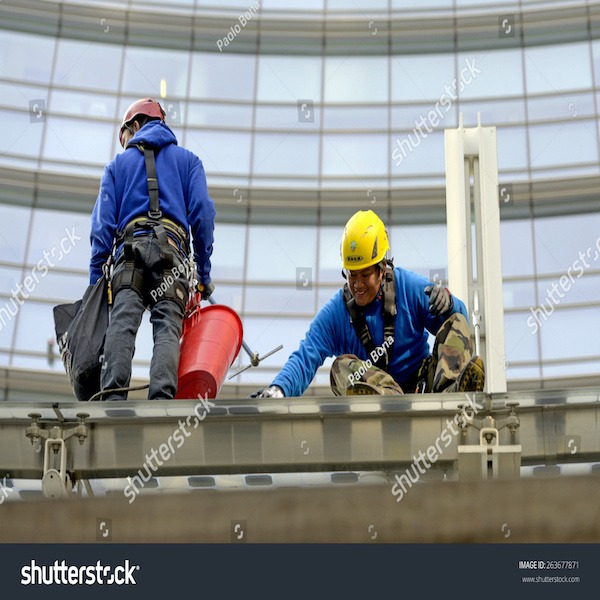helmet: (342, 209, 390, 273), (121, 97, 169, 126)
